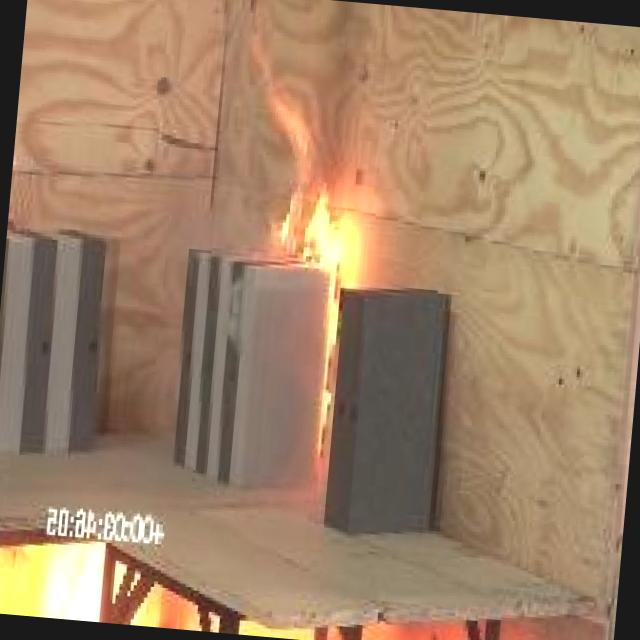fire: (228, 64, 408, 309)
